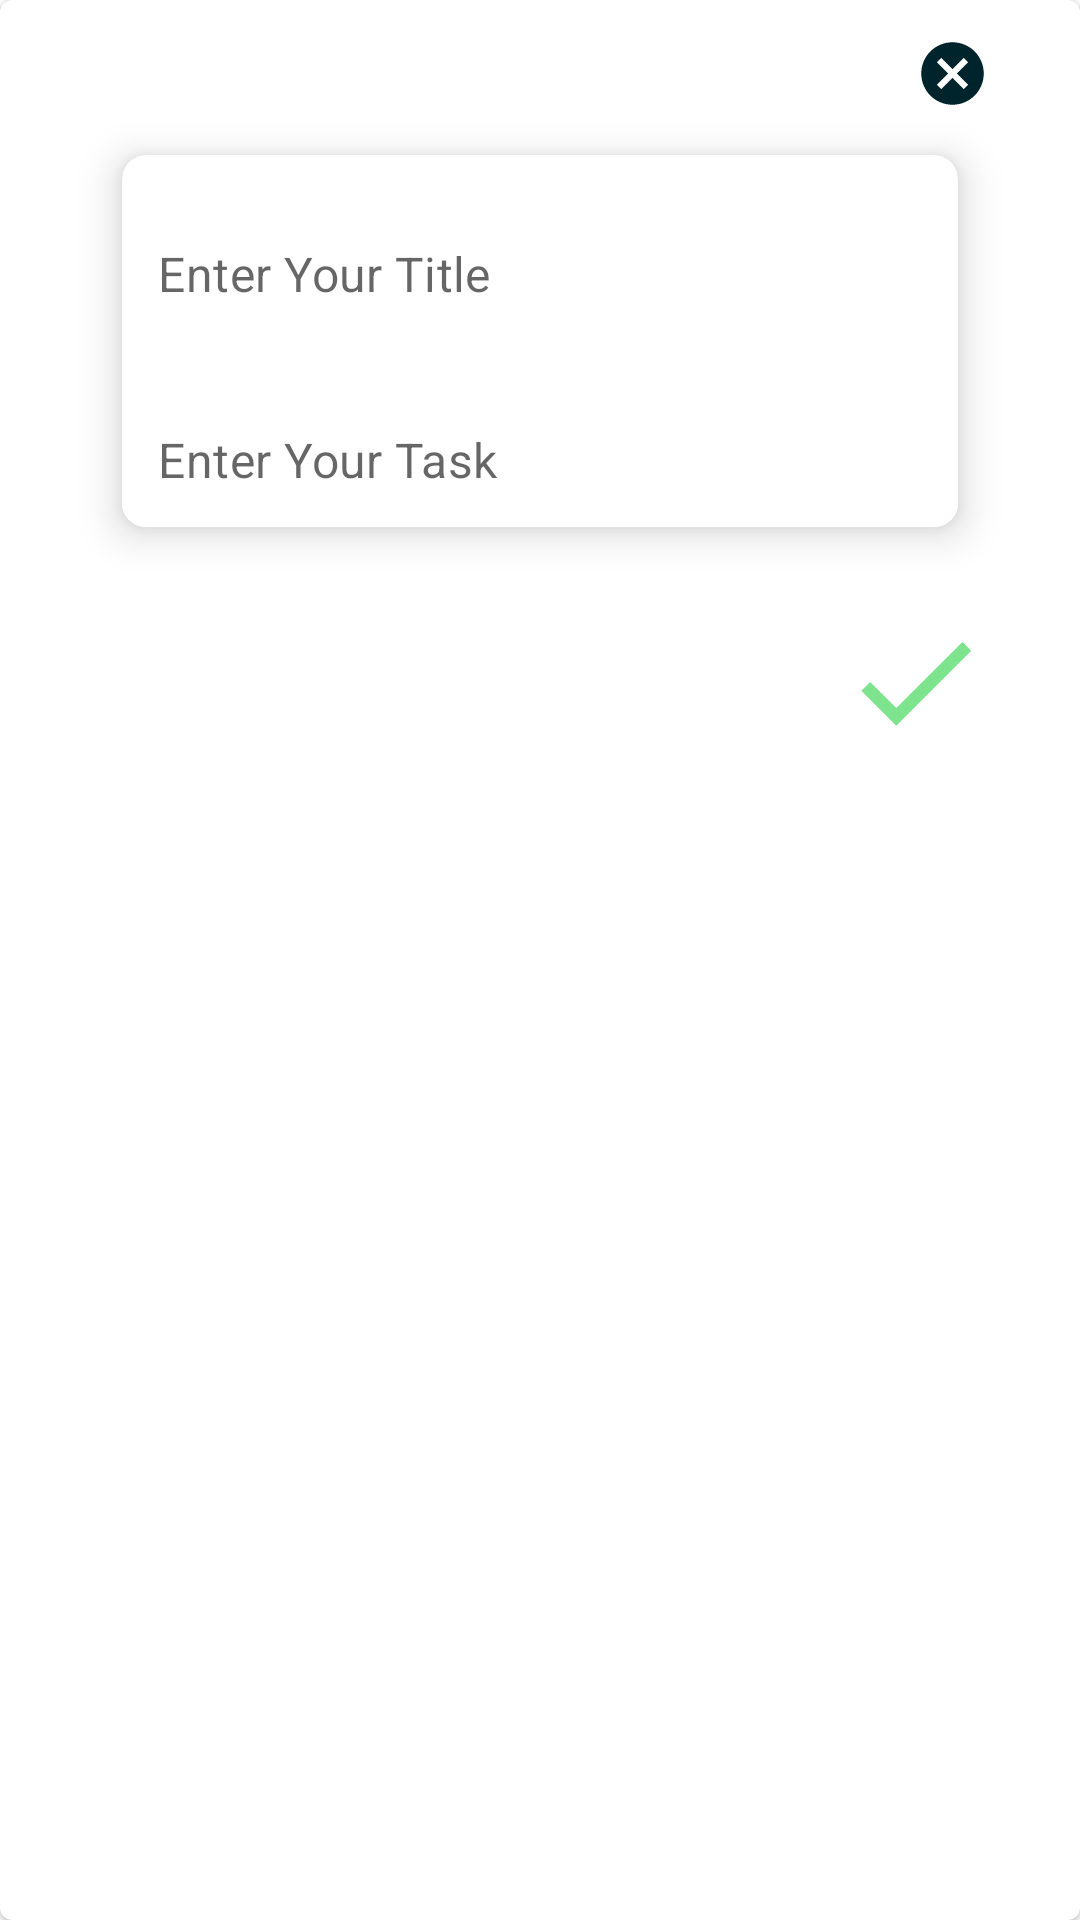

Icons on this 1080×1920 Android screen, each with the point to tap as (x=x, y=y):
cancel: (x=952, y=73)
check: (x=916, y=684)
